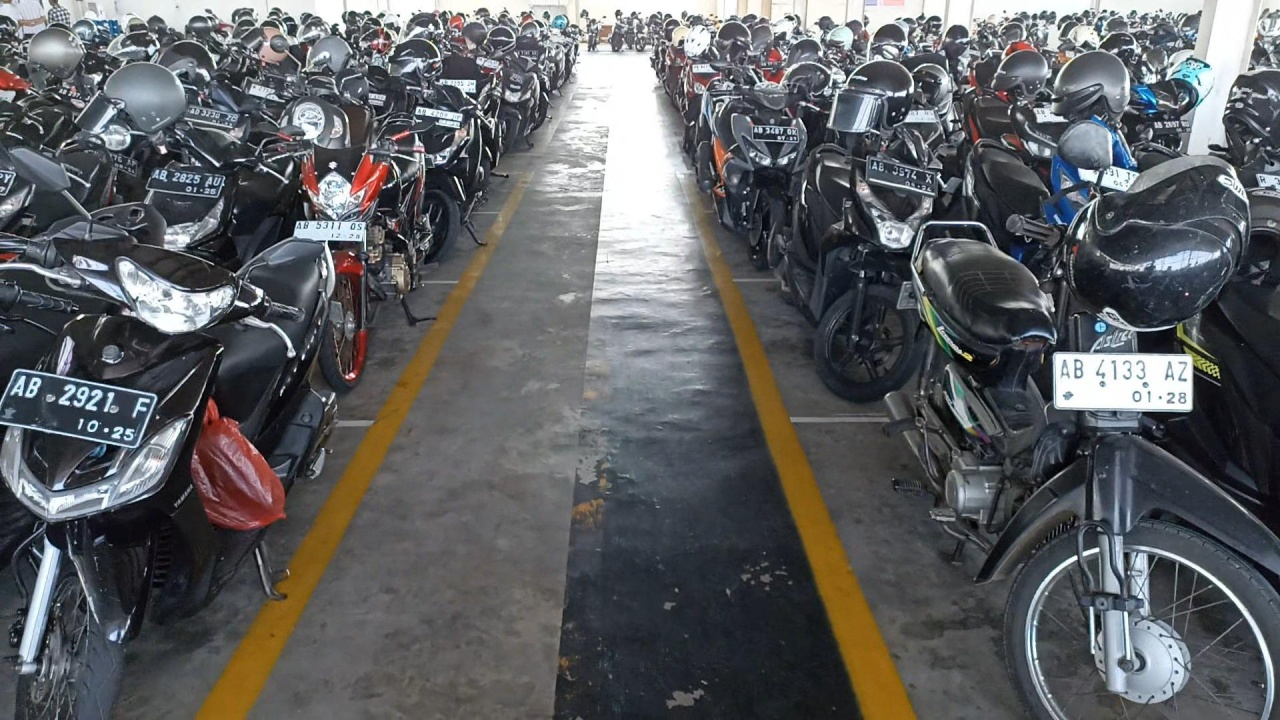plate: (0, 369, 158, 448), (1053, 353, 1193, 412), (869, 157, 937, 196), (145, 167, 226, 197), (293, 221, 366, 241), (753, 125, 799, 142)
